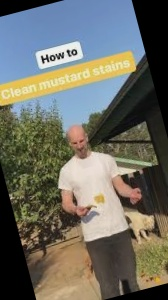mustard: (91, 191, 107, 205)
